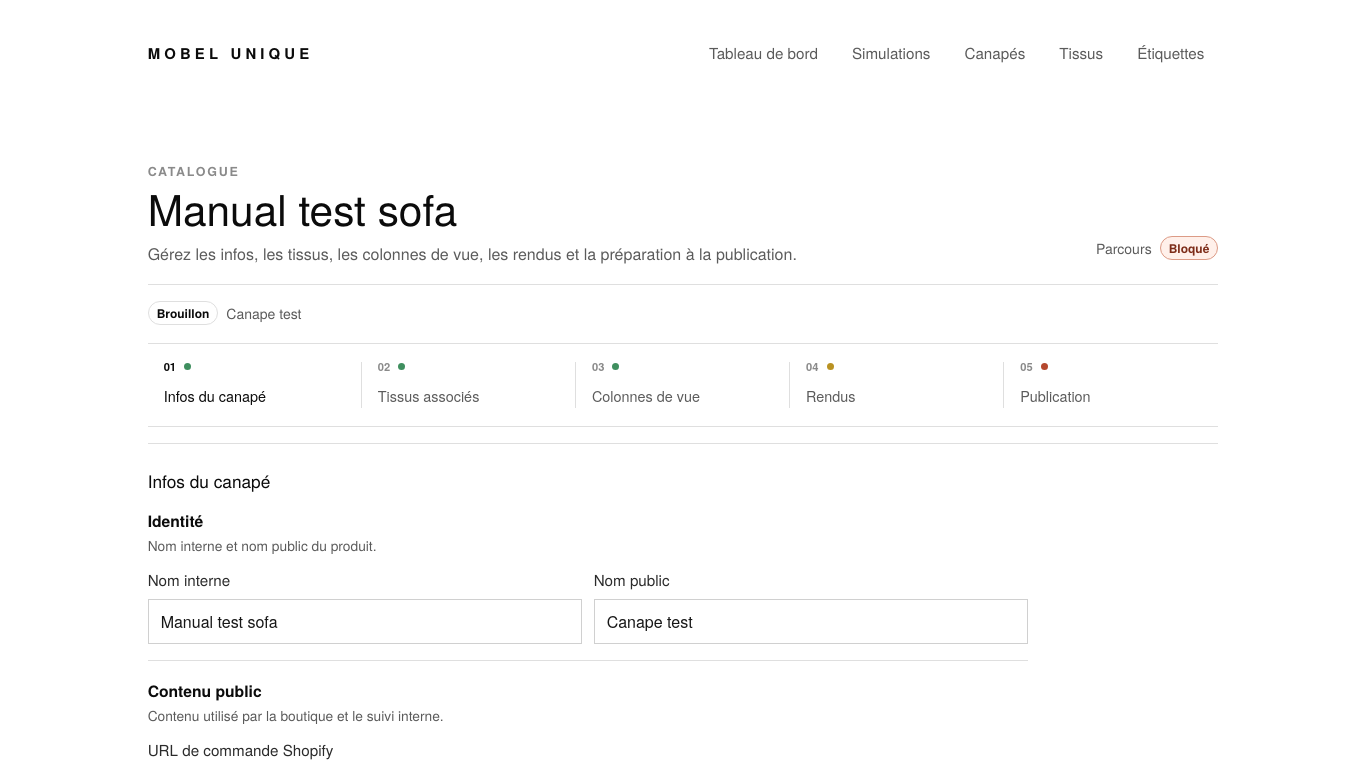
Admin catalog pages › shows candidate review in an open Missing cell after generation finishes
Check: the heading "Manual test sofa" is shown, box [148, 178, 457, 240]
Click the tab "04 Rendus": [897, 385] box [790, 358, 1004, 412]
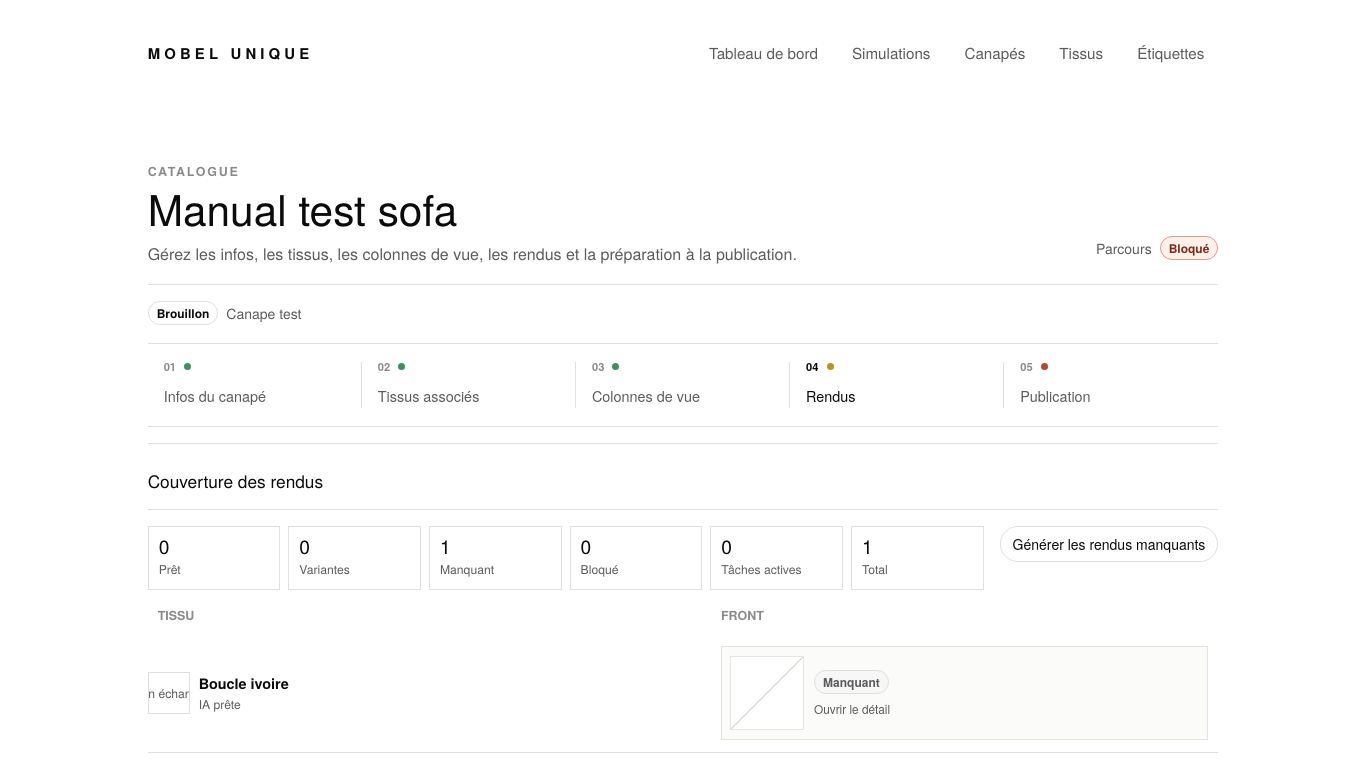
Click the button with aria-label "Boucle ivoire, Front : Manquant": [767, 693] box [721, 646, 1208, 740]
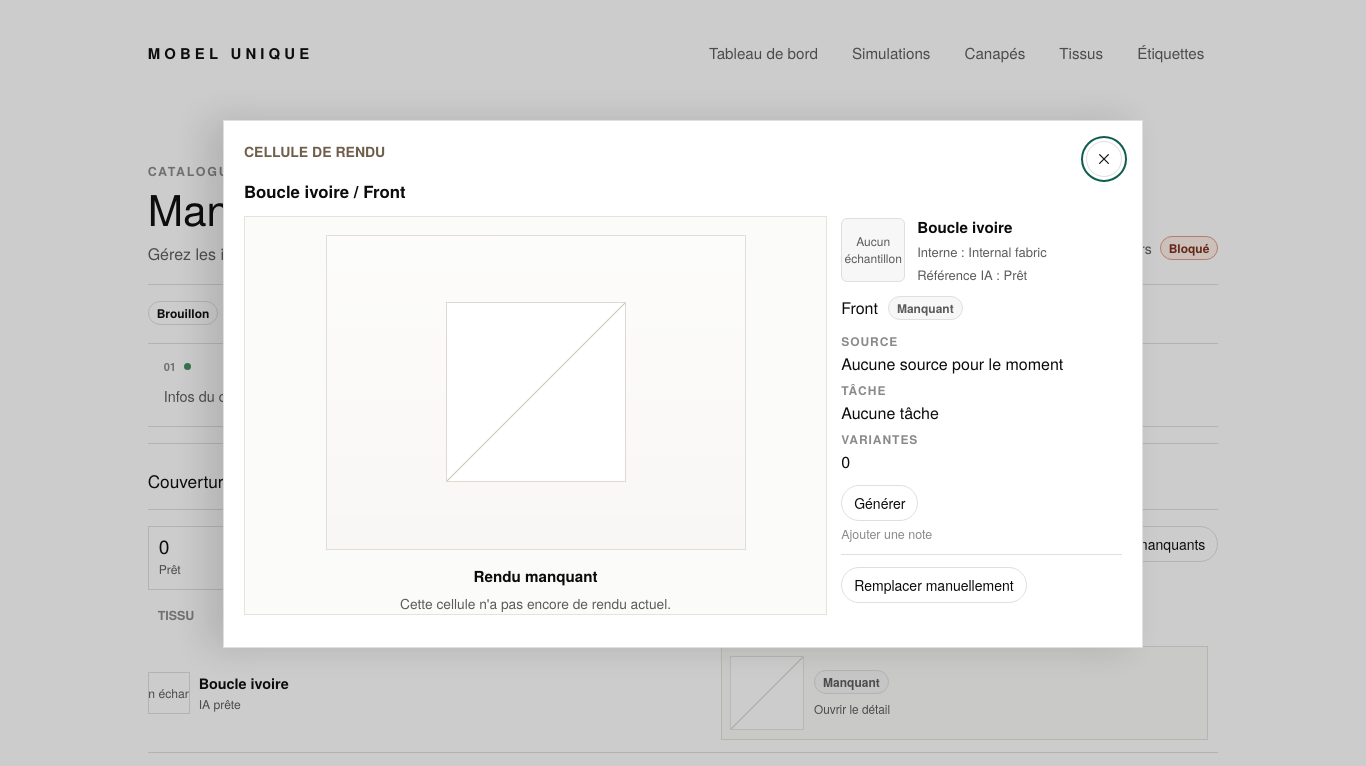
Click the button "Générer": [880, 502] box [841, 484, 918, 520]
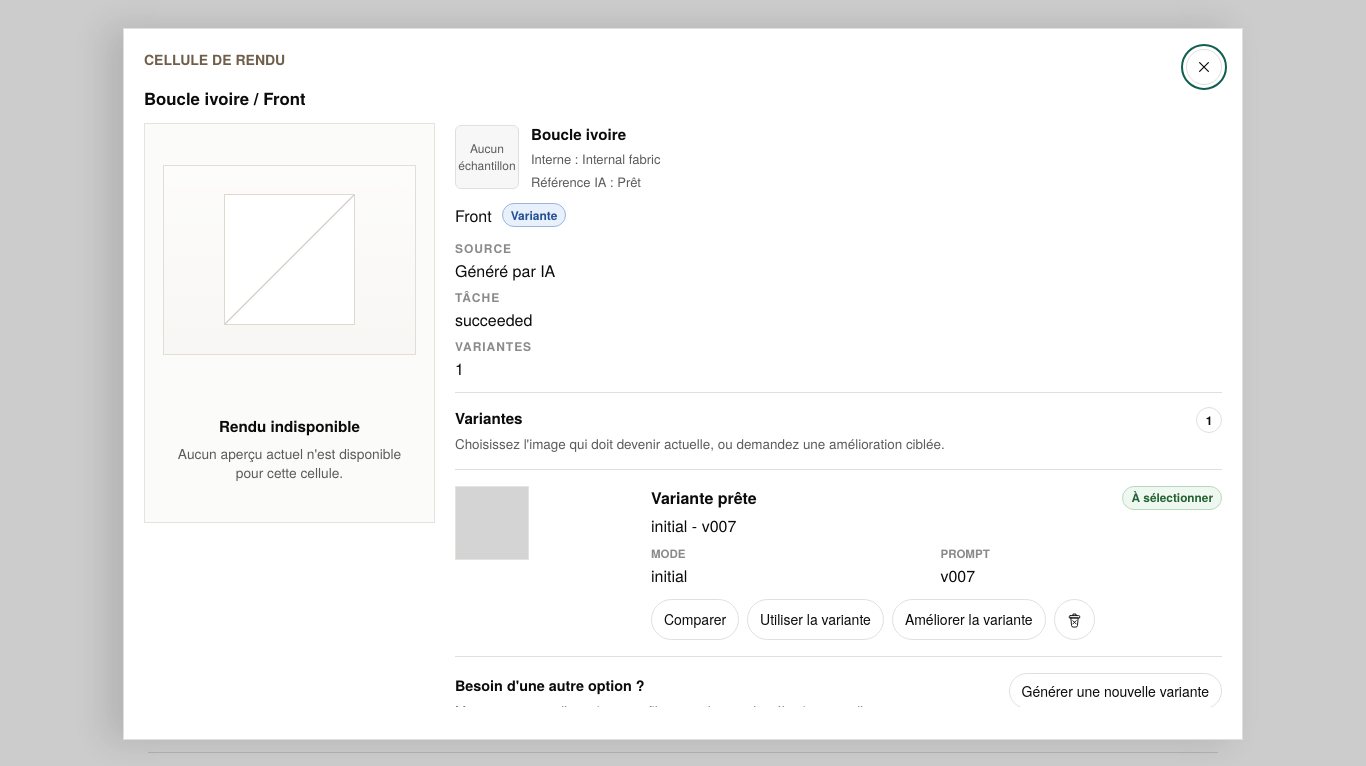
Check: the element named "Voir les variantes" is shown, box [455, 392, 1222, 707]
Check: the button "Utiliser la variante" is shown, box [747, 599, 884, 640]
